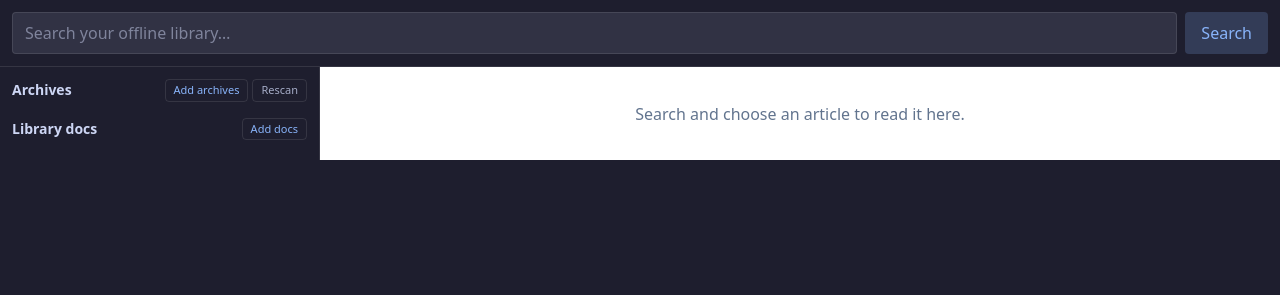
says so when archives were left unsearched
This screenshot has width=1280, height=295.
Type "anything" into the field named "Search offline library" at (595, 33), box [12,12,1177,54]
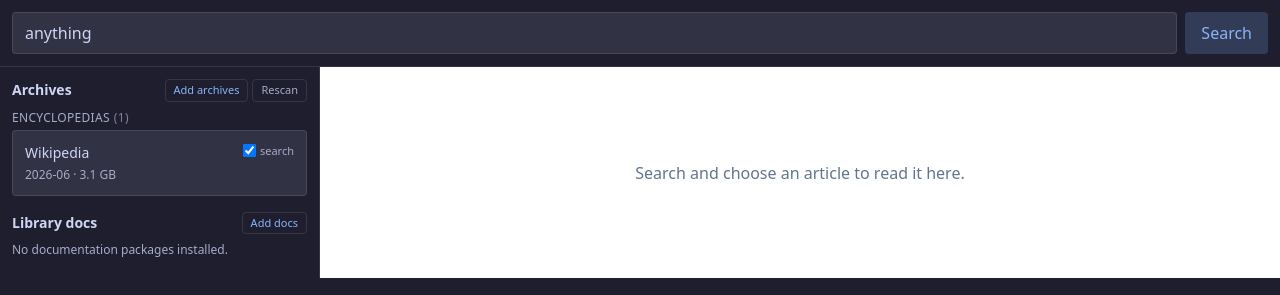
Click the button "Search" at (1227, 33), box [1185,12,1268,54]
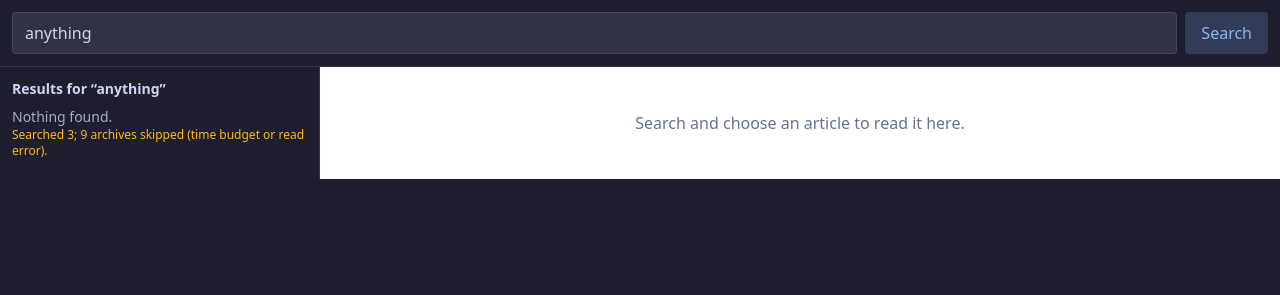
Now the text "Searched 3; 9 archives skipped (time budget or read error)." is shown, box [12,127,307,159]
